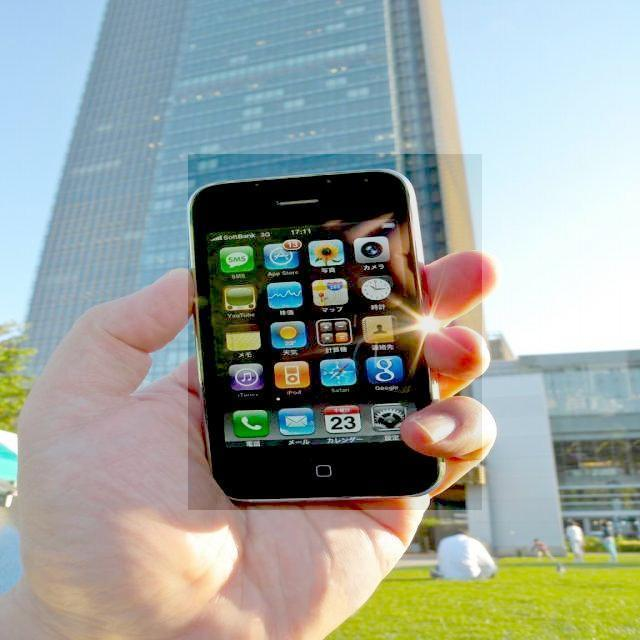mobile-phone: (189, 155, 483, 510)
